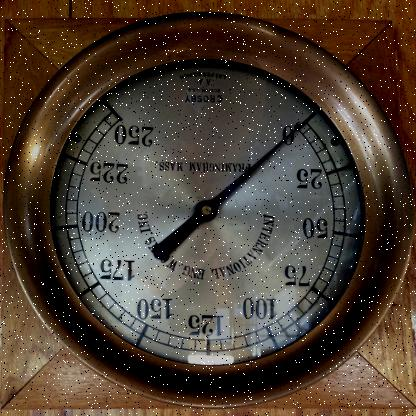needle: (208, 119, 308, 210)
